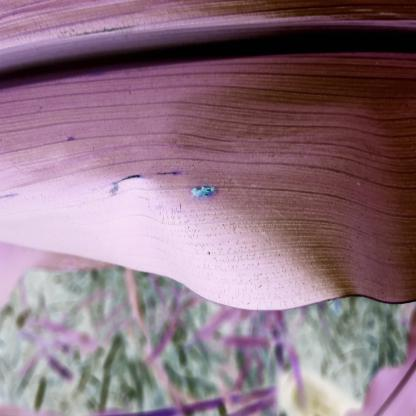Corn rust leaf: (1, 1, 416, 309)
